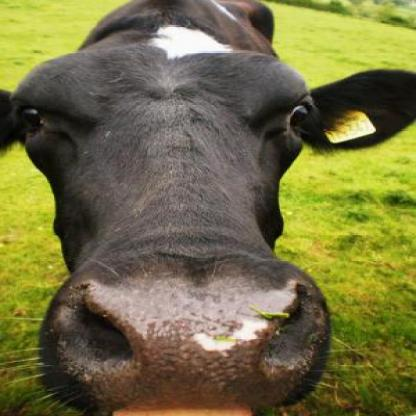mouth: (40, 253, 330, 415)
upper: (58, 272, 322, 394)
